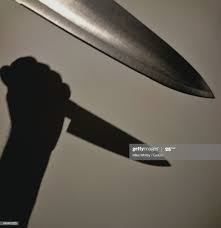knife: (11, 1, 218, 102)
